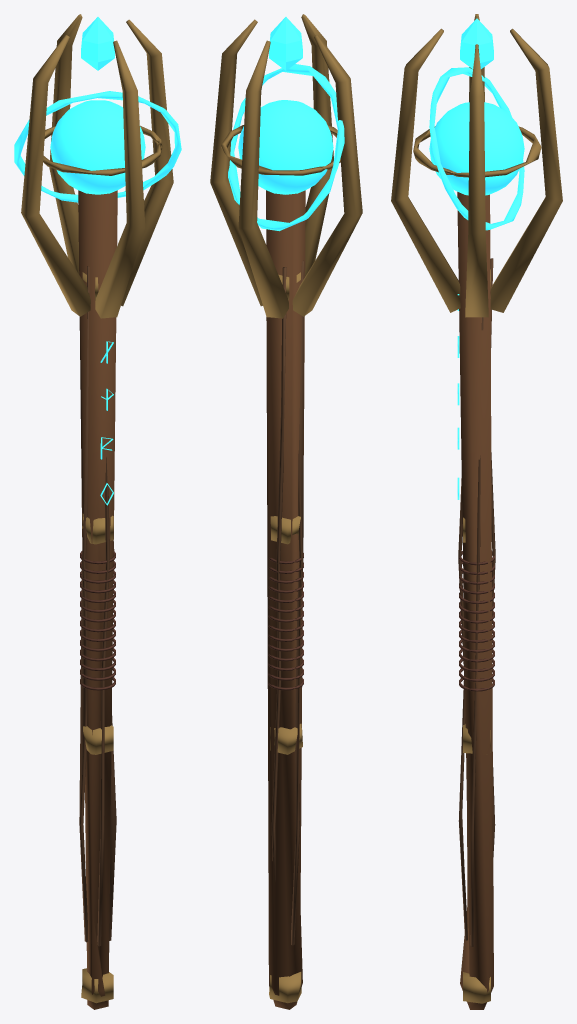
Rendered from wooden-staff-legendary-low.glb.
3 views of the same model, side by side, from view 1: azimuth 30°, elevation 25°; view 2: azimuth 150°, elevation 25°; view 3: azimuth 270°, elevation 25° (orthographic).
Visible parts, largest first — view 1: wooden-staff__legendary; view 2: wooden-staff__legendary; view 3: wooden-staff__legendary.
Boxes of the visible parts, left/top/right/bottom form: wooden-staff__legendary: left=14, top=14, right=181, bottom=1009; wooden-staff__legendary: left=210, top=14, right=362, bottom=1009; wooden-staff__legendary: left=391, top=14, right=562, bottom=1009.
Size of the model in its own units: 0.2811 by 1.83 by 0.2889.
